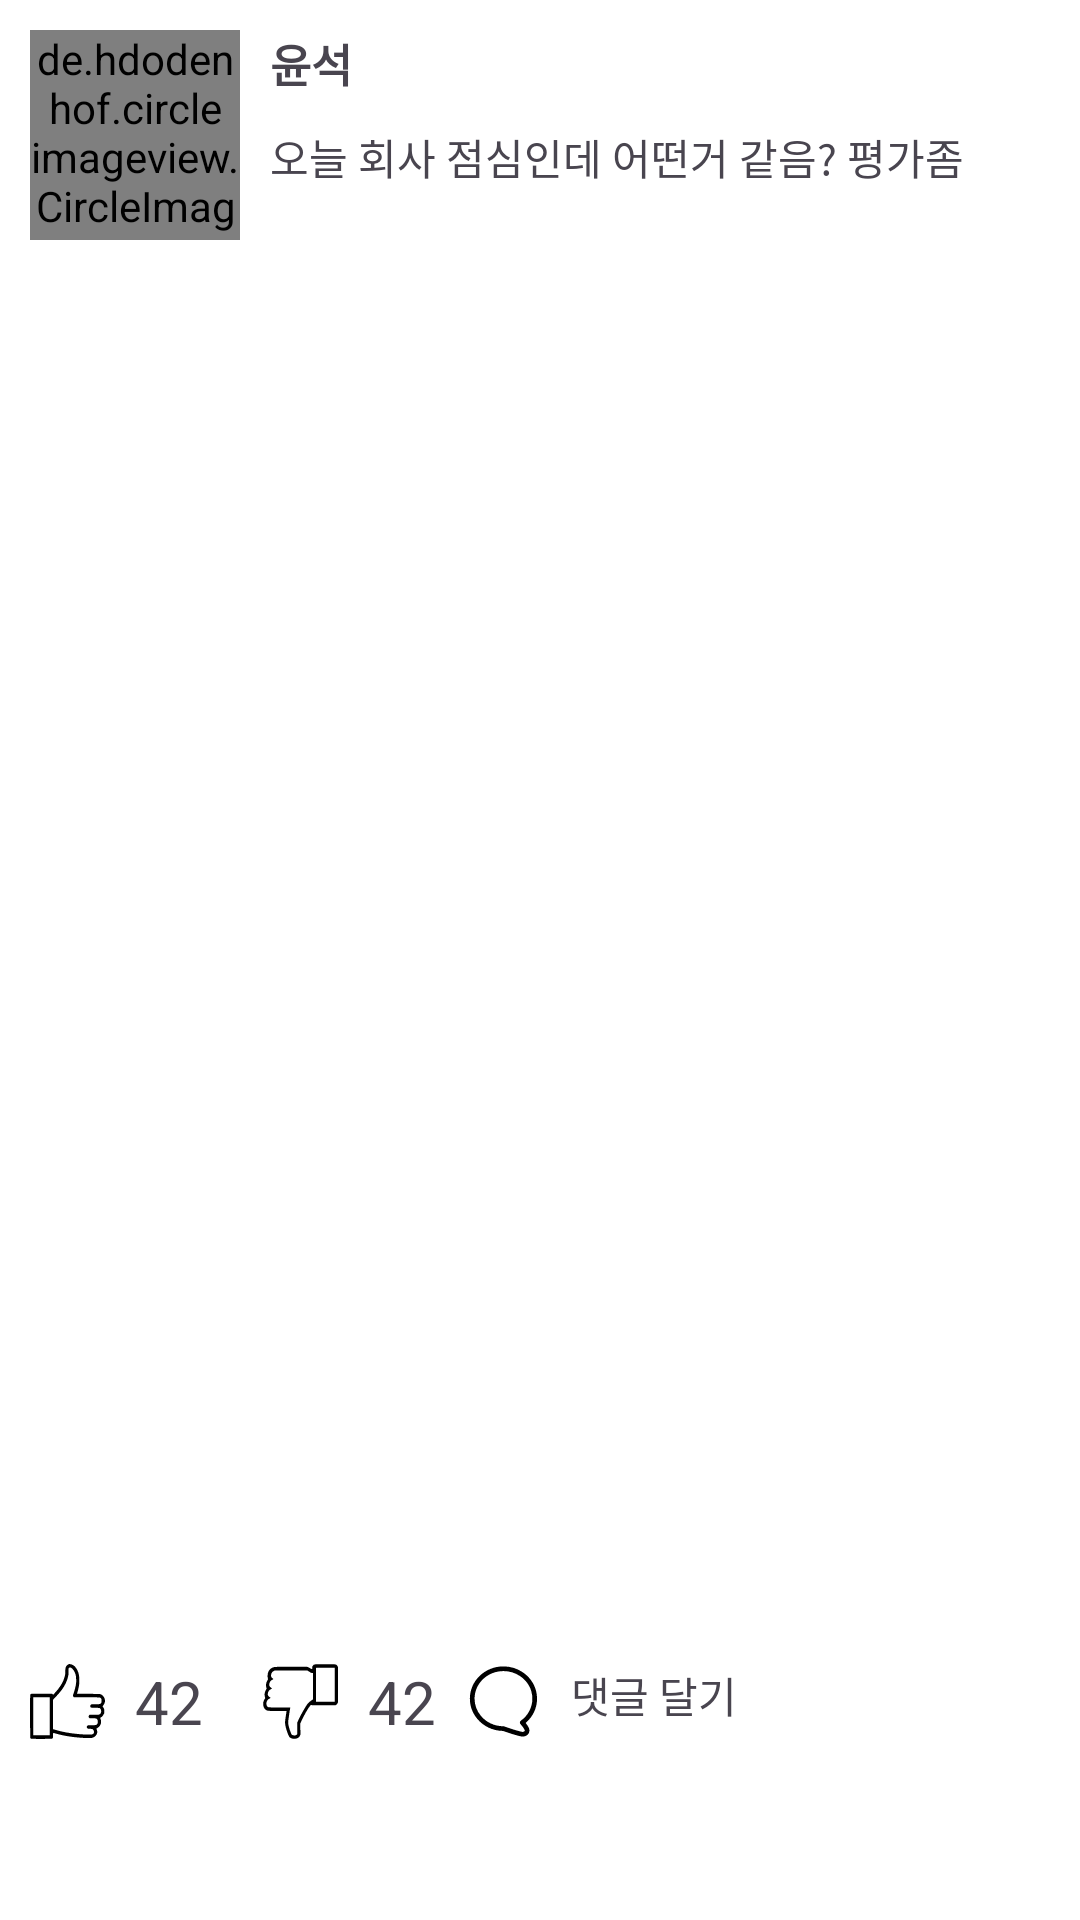

Where to tap for icons on this 1080×1920 app screen, as point (x, y):
comment: point (503, 1701)
dislike: point (300, 1701)
like: point (67, 1701)
